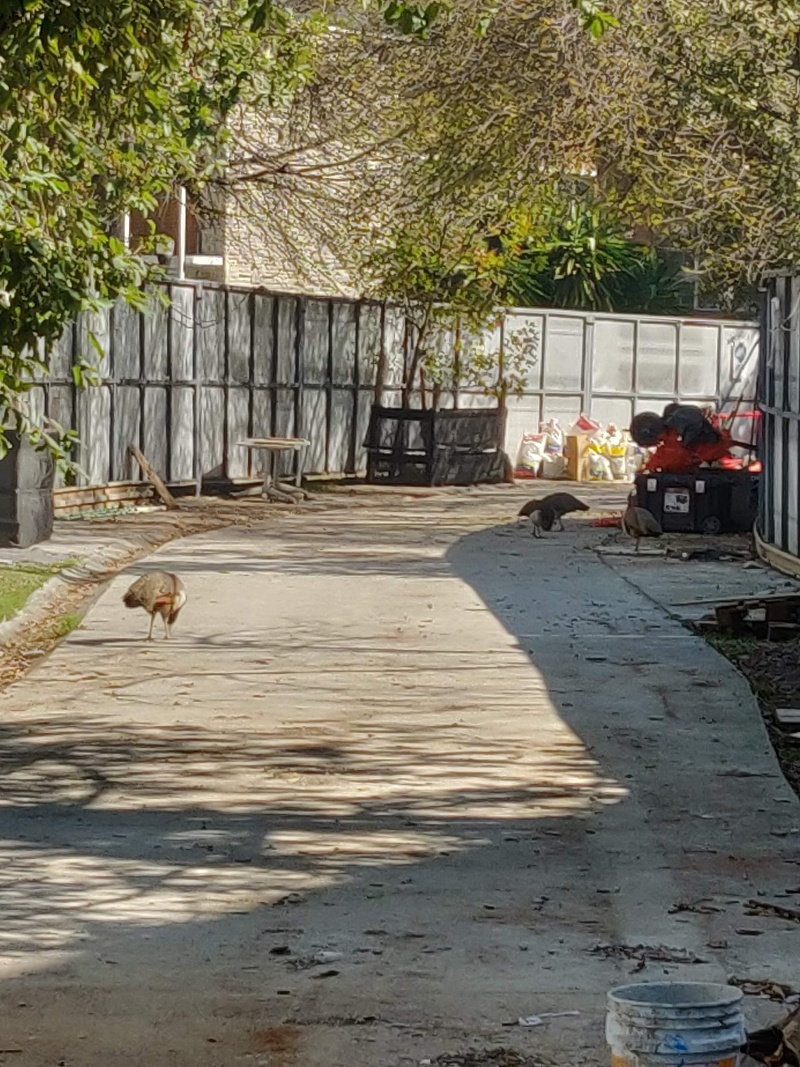pavoreal: (121, 567, 198, 636), (513, 483, 581, 542)
